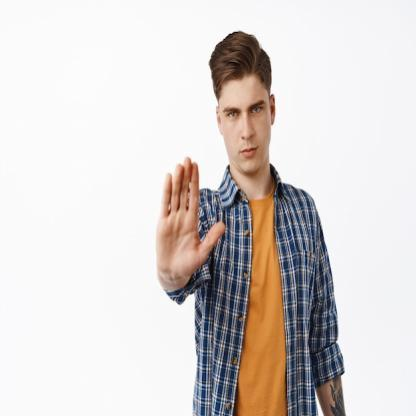stop: (156, 155, 225, 304)
